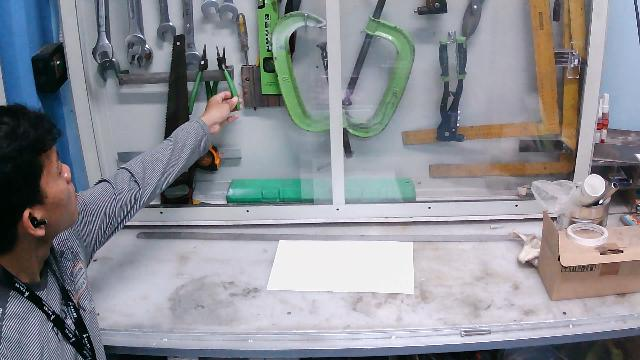tang_cucut_lancip_1: (209, 38, 245, 119)
